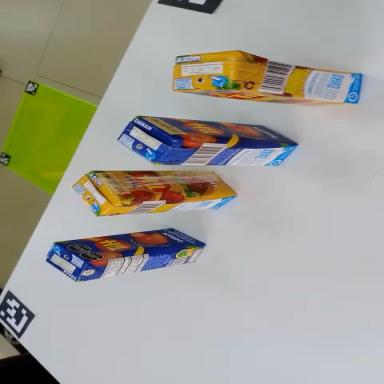HIT-MANGO: (172, 45, 364, 112), (73, 171, 236, 217)
HIT-MORA: (117, 114, 299, 175), (44, 221, 208, 286)
cara_F: (175, 83, 355, 113), (136, 116, 299, 149)
